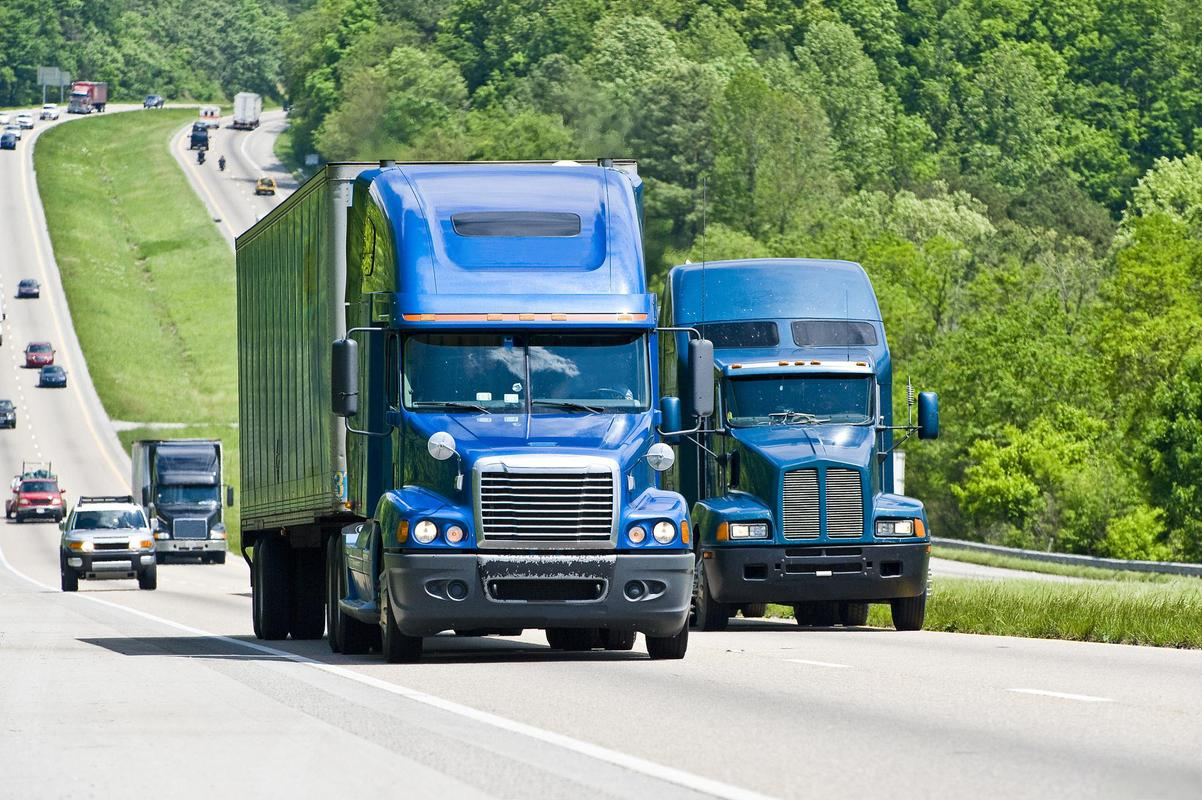卡车: (207, 153, 693, 669), (663, 259, 946, 634)
